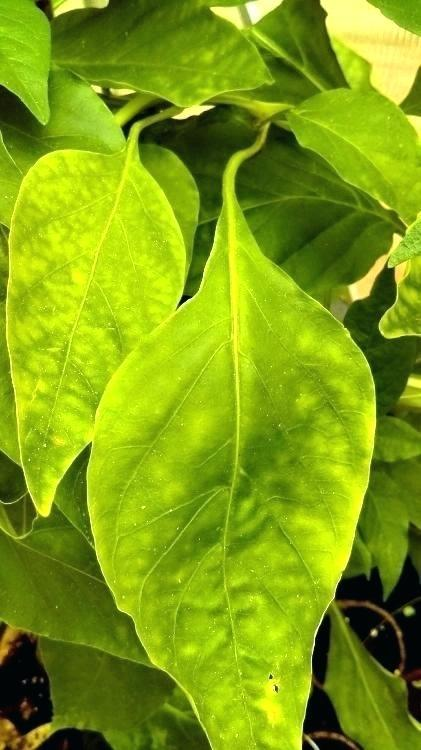Bell_pepper leaf spot: (78, 242, 384, 750), (5, 146, 191, 526)
